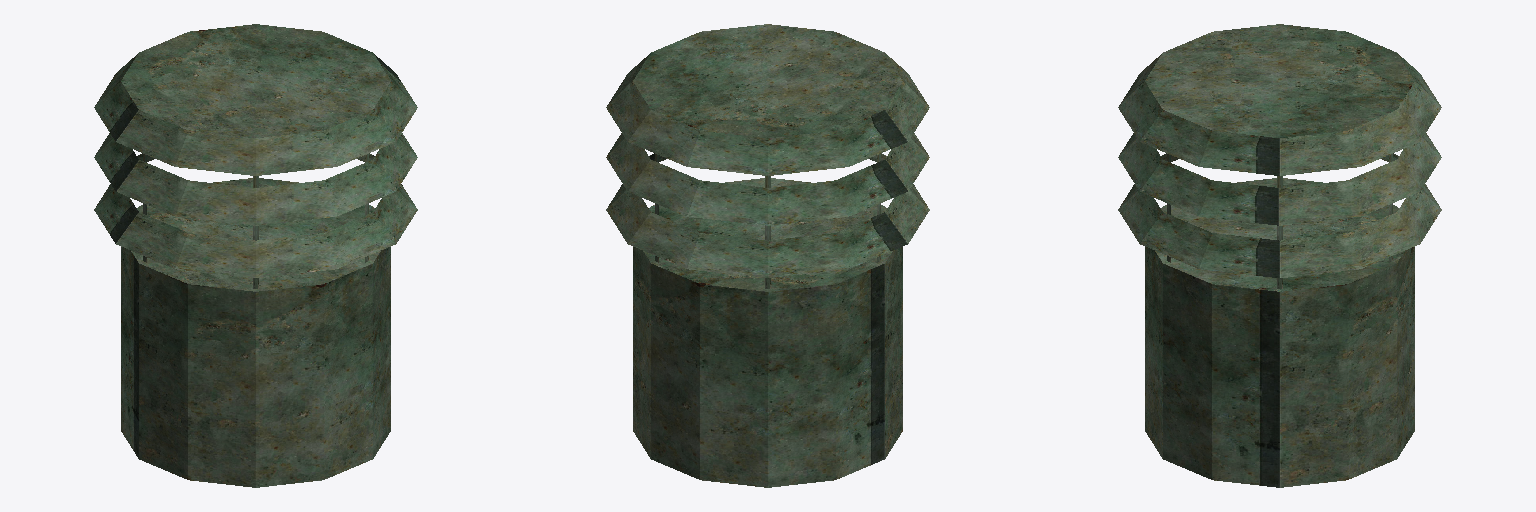
The picture shows the model from 3 angles: view 1: azimuth 30°, elevation 25°; view 2: azimuth 150°, elevation 25°; view 3: azimuth 270°, elevation 25°; orthographic projection.
Parts seen in each view (by area): view 1: airExhaust_5; view 2: airExhaust_5; view 3: airExhaust_5.
Part boxes in pixels (x1,y1,x2,y2): airExhaust_5: (94, 24, 417, 487); airExhaust_5: (606, 24, 929, 487); airExhaust_5: (1118, 24, 1441, 487).
Bounding box in the file's own units: 0.5991 × 0.7132 × 0.5991.
1 materials, 1 textured.